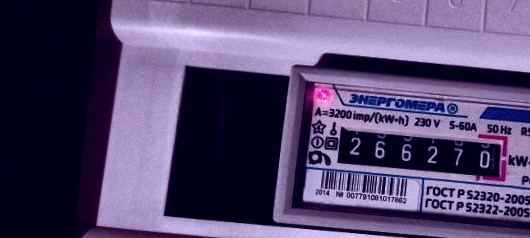0: (477, 148, 492, 169)
2: (346, 135, 363, 157), (424, 144, 440, 165)
6: (372, 138, 387, 160), (399, 142, 414, 163)
7: (450, 146, 464, 167)
screen: (327, 116, 516, 188)
